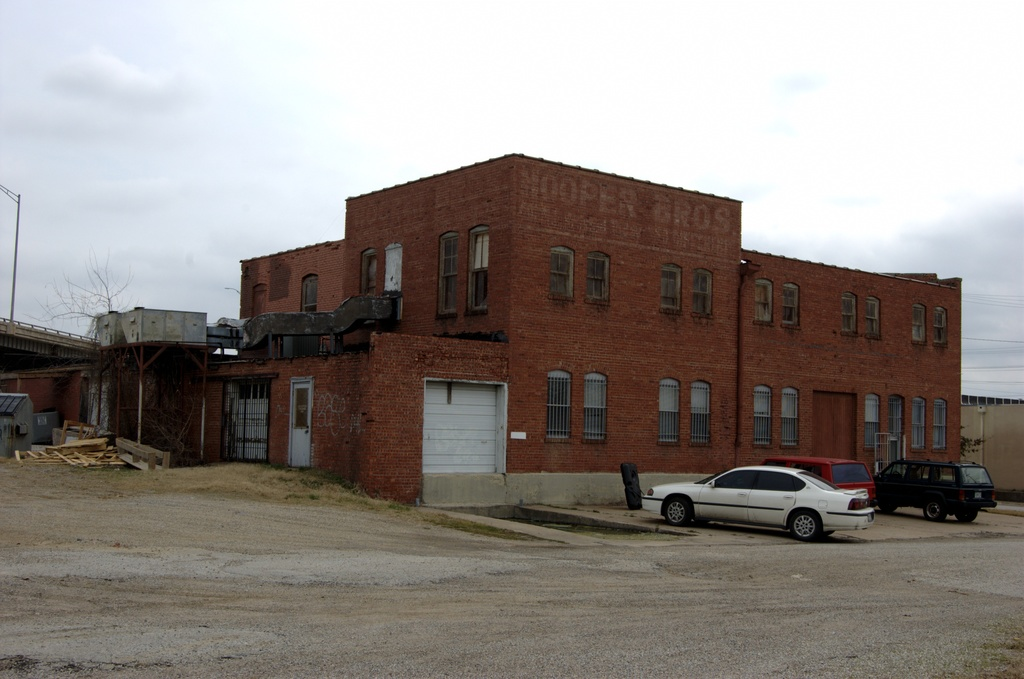mobil: (641, 460, 871, 545), (875, 456, 993, 526)
